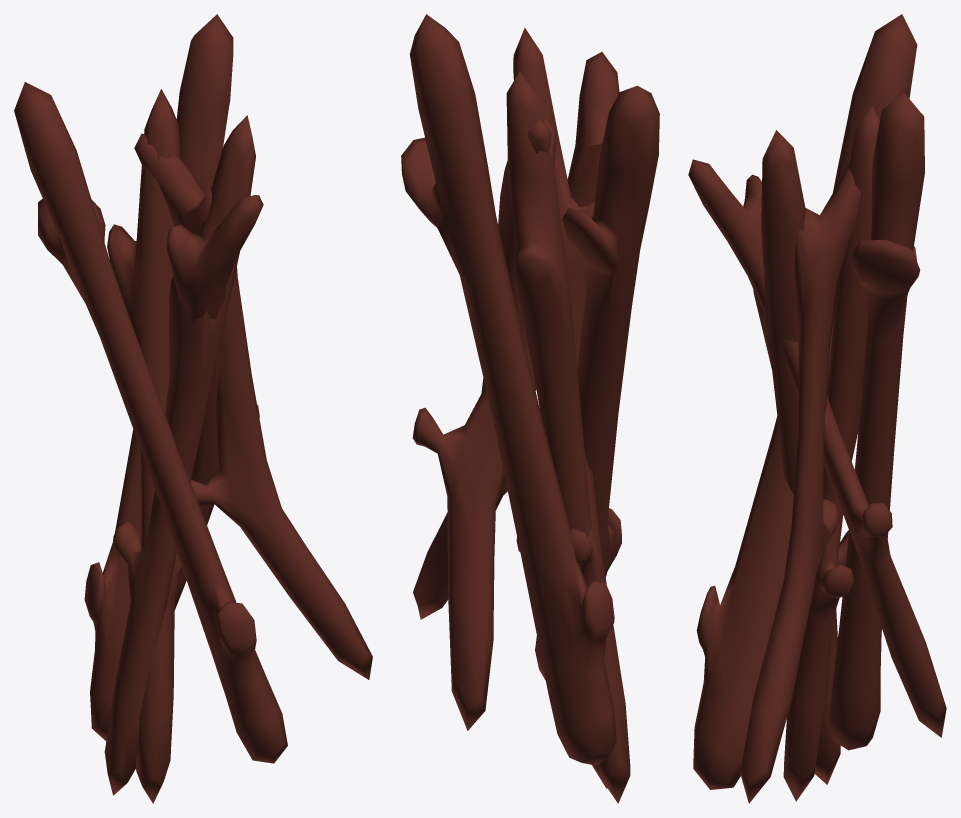
Rendered from twig-7.fbx.
3 views of the same model, side by side, from view 1: azimuth 30°, elevation 25°; view 2: azimuth 150°, elevation 25°; view 3: azimuth 270°, elevation 25° (orthographic). The views are drawn at different scales.
Visible parts, largest first — view 1: twig-7; view 2: twig-7; view 3: twig-7.
Boxes of the visible parts, box(x1,y1,x2,y2) form: twig-7: box(14, 14, 372, 803); twig-7: box(401, 14, 659, 803); twig-7: box(688, 14, 946, 803).
Bounding box in the file's own units: 128 × 307 × 93.56.
